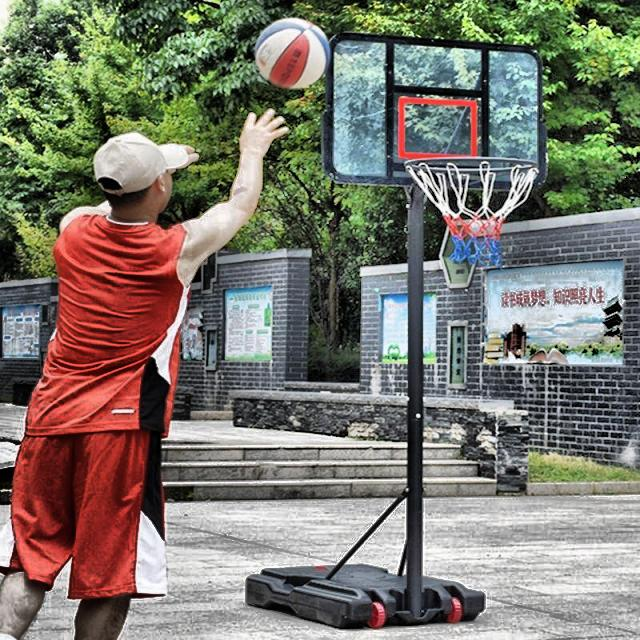board: (256, 18, 330, 90)
rim: (404, 157, 534, 269)
